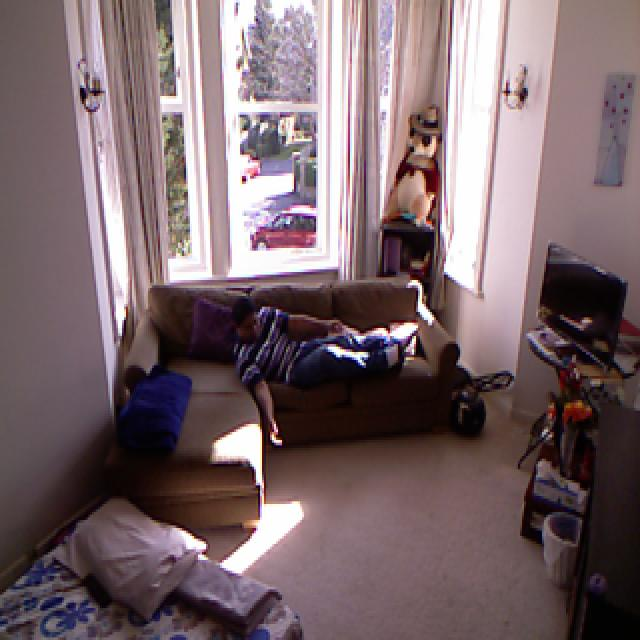lying: (228, 291, 410, 442)
